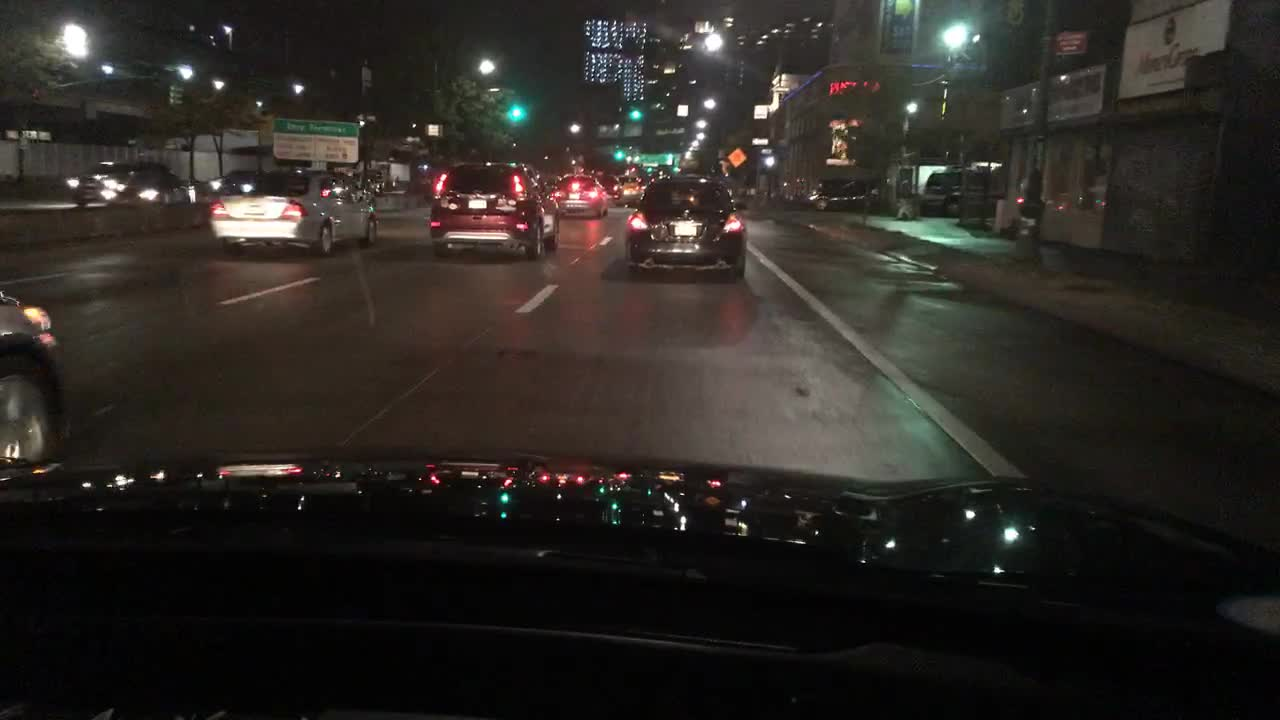car: (206, 167, 378, 255), (428, 160, 561, 259), (623, 174, 748, 278), (0, 284, 64, 463), (65, 160, 196, 207), (918, 171, 989, 215), (549, 172, 611, 218), (814, 178, 890, 213), (211, 167, 267, 195), (610, 174, 644, 204), (351, 167, 384, 194), (601, 175, 624, 197), (650, 167, 670, 183), (642, 173, 656, 185)
traffic light: (167, 82, 185, 106), (509, 105, 521, 117), (632, 110, 641, 119), (613, 150, 622, 159)
traffic sign: (271, 118, 358, 161), (1051, 30, 1085, 55), (635, 152, 673, 165), (727, 147, 747, 165), (753, 103, 768, 119), (426, 123, 441, 137), (753, 135, 768, 146)
